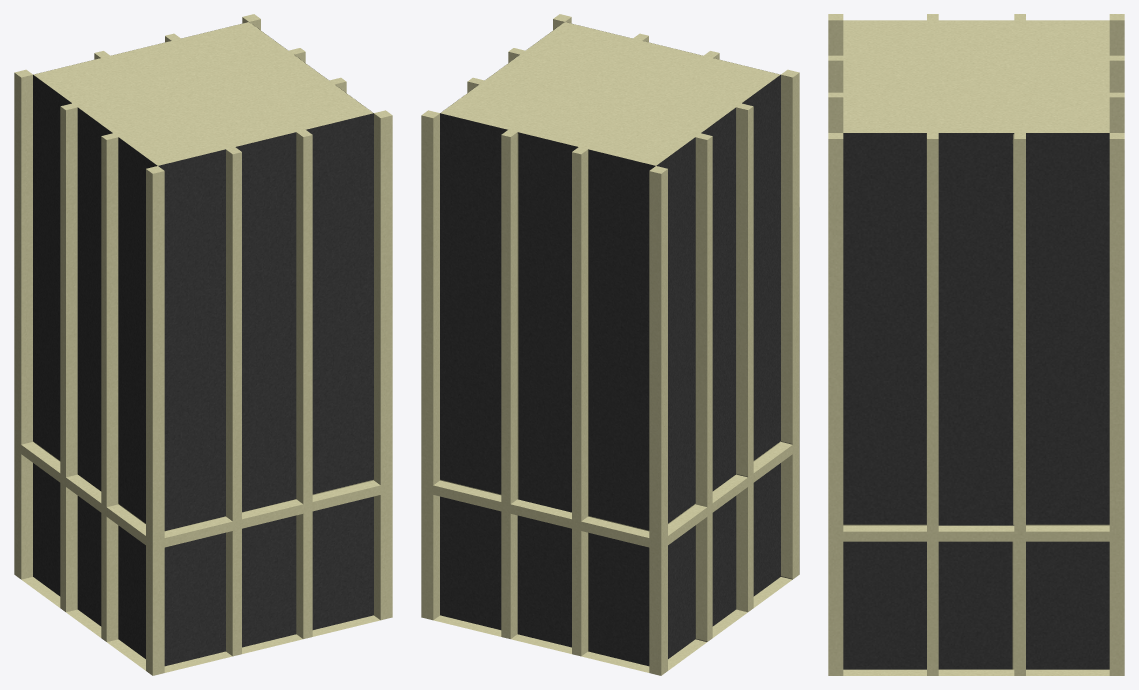
The model's file is LP_House_1.obj.
3 views of the same model, side by side, from view 1: azimuth 30°, elevation 25°; view 2: azimuth 150°, elevation 25°; view 3: azimuth 270°, elevation 25° (orthographic). The views are drawn at different scales.
Visible parts, largest first — view 1: Box001; view 2: Box001; view 3: Box001.
Part boxes in pixels (bbox=[...]): Box001: bbox=[14, 14, 392, 675]; Box001: bbox=[421, 14, 799, 675]; Box001: bbox=[828, 14, 1124, 675].
Size of the model in its own units: 15 by 30 by 15.
